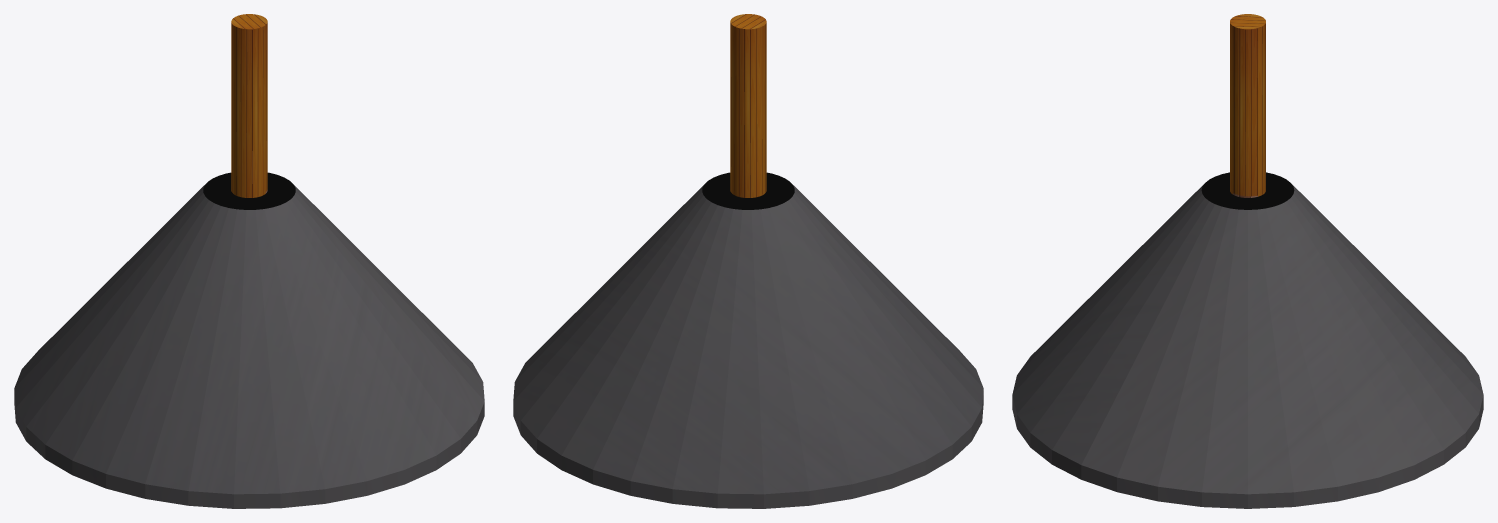
Rendered from LightTextured.fbx.
3 renders of one model, left to right at view 1: azimuth 30°, elevation 25°; view 2: azimuth 150°, elevation 25°; view 3: azimuth 270°, elevation 25°, orthographic.
Visible parts, largest first — view 1: Circle; view 2: Circle; view 3: Circle.
Boxes of the visible parts, x1,y1,x2,y2 form: Circle: [14, 14, 484, 508]; Circle: [513, 14, 983, 508]; Circle: [1012, 14, 1483, 508].
Size of the model in its own units: 200 by 208 by 200.
